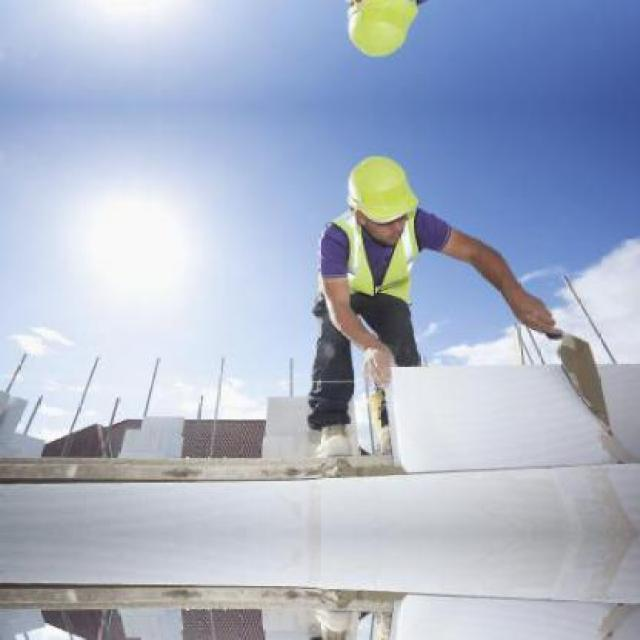Reflective-Jacket: (304, 211, 442, 321)
Safety-Helmet: (334, 147, 429, 228)
